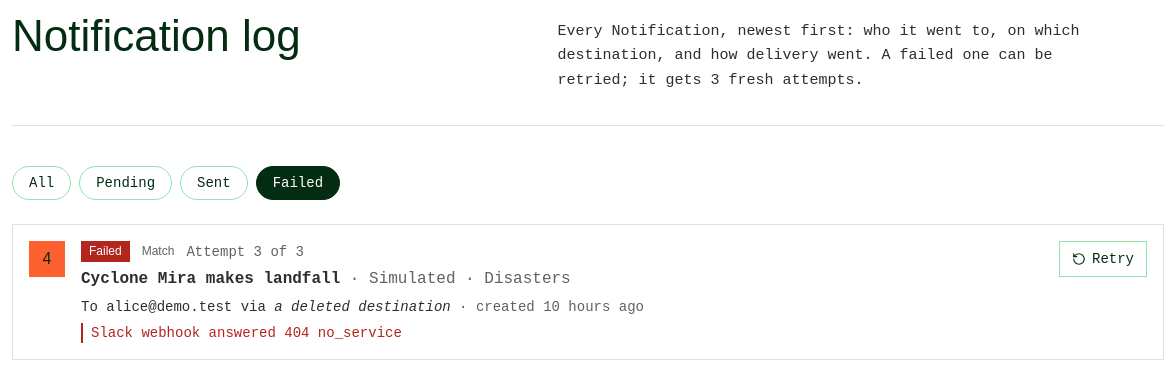
Scenario: NotificationLogPage › filters failed Notifications, shows the error and retries one
Expected: the text "Slack webhook answered 404 no_service" is shown, [81,324,1043,344]
Expected: the text "Attempt 3 of 3" is shown, [186,242,304,262]
Click the button named "Retry the Notification to alice@demo.test about Cyclone Mira makes landfall" at (1103, 259), box [1059,241,1147,277]
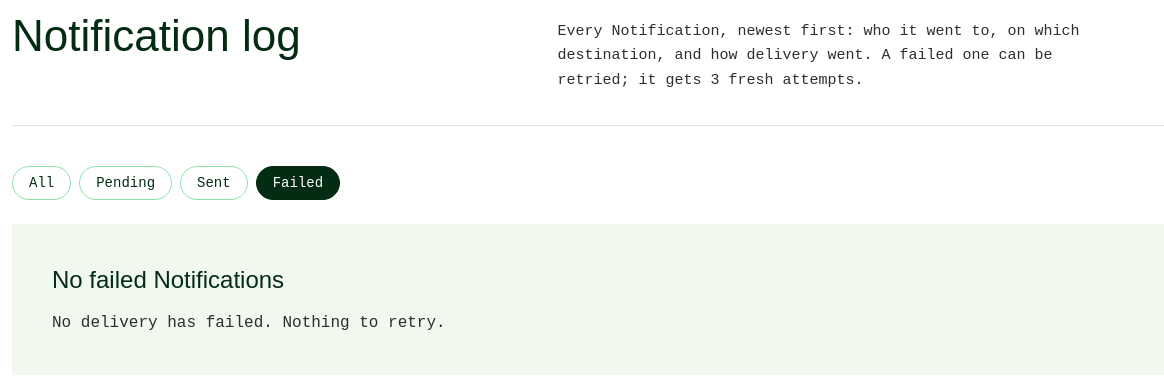
Result: the heading "No failed Notifications" is shown at [52,264,284,296]
